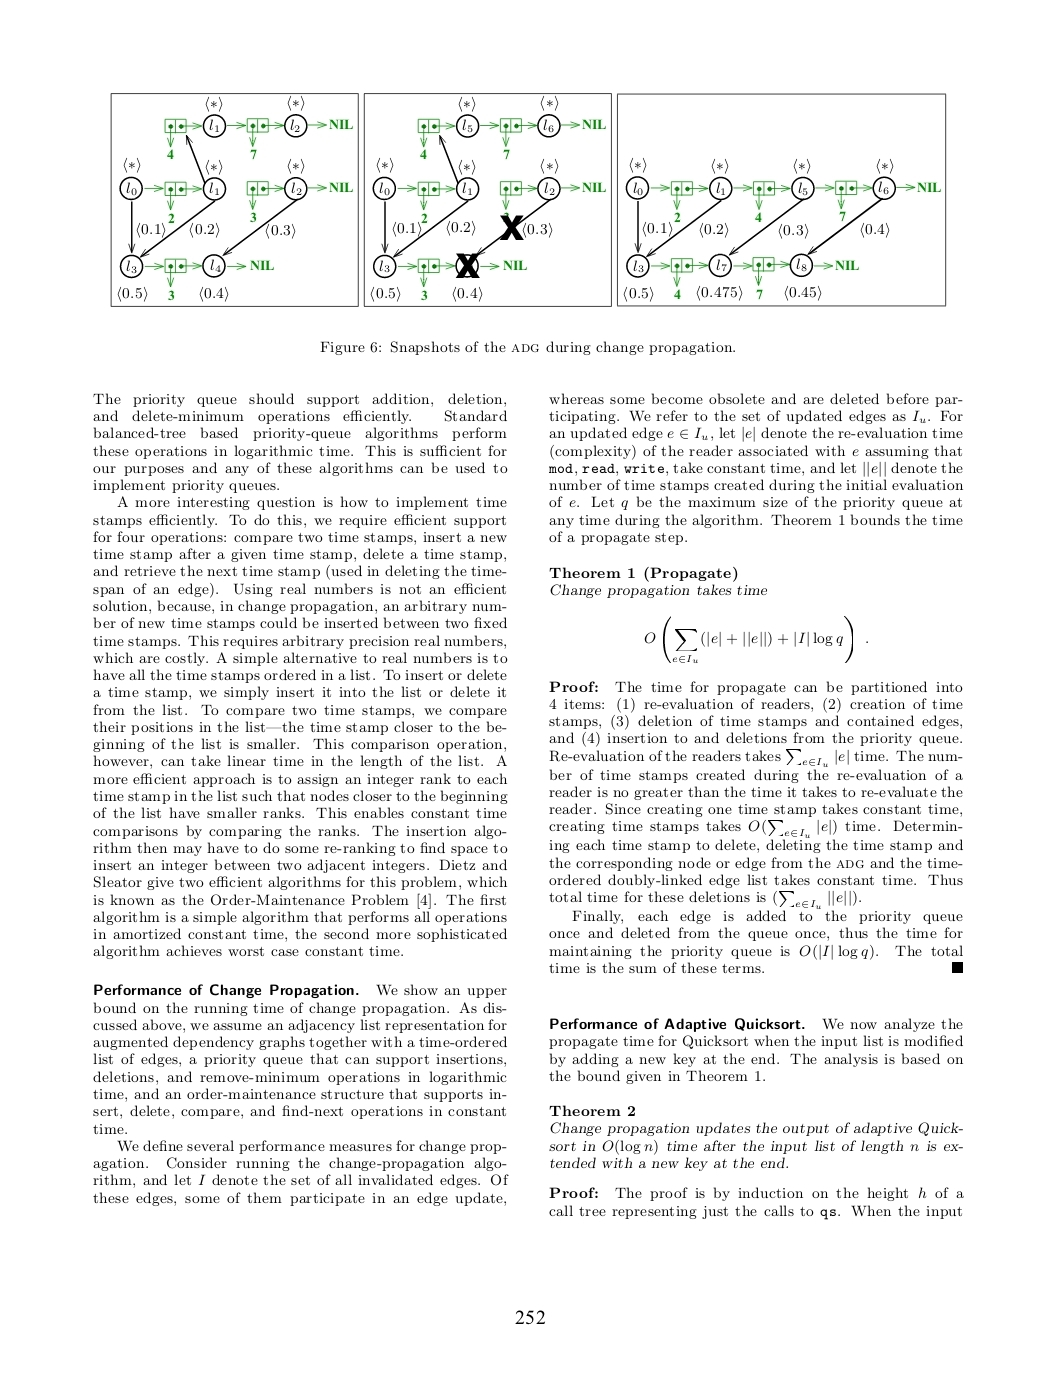figure: (617, 92, 946, 306), (110, 92, 358, 306), (363, 92, 611, 306)
formula: (644, 615, 867, 663)
